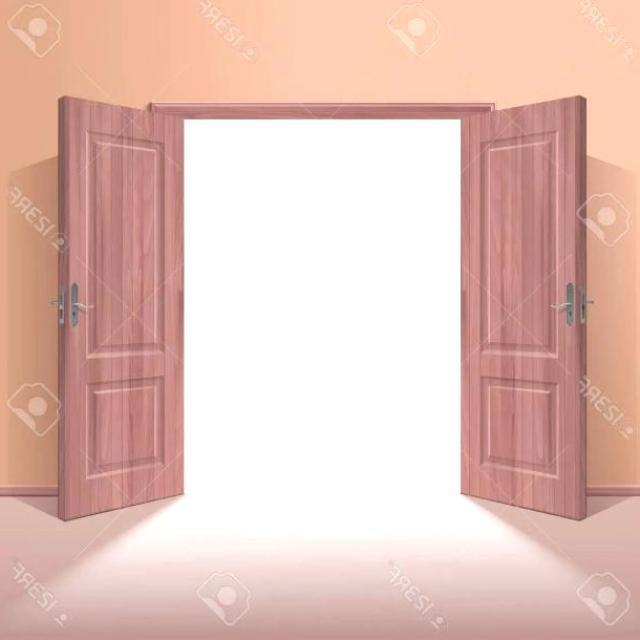door: (459, 94, 588, 520), (56, 94, 184, 520)
